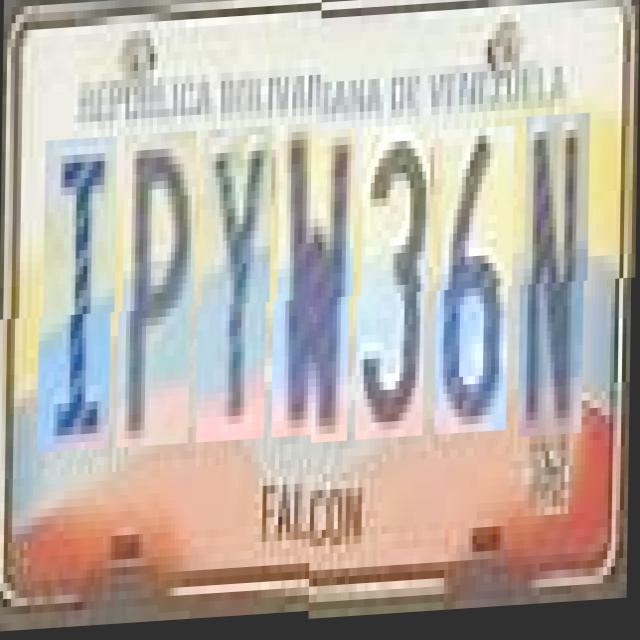3: (361, 129, 432, 445)
6: (440, 133, 515, 441)
I: (42, 146, 118, 462)
N: (524, 121, 590, 444)
P: (122, 142, 197, 458)
W: (277, 133, 356, 449)
Y: (202, 138, 272, 454)
